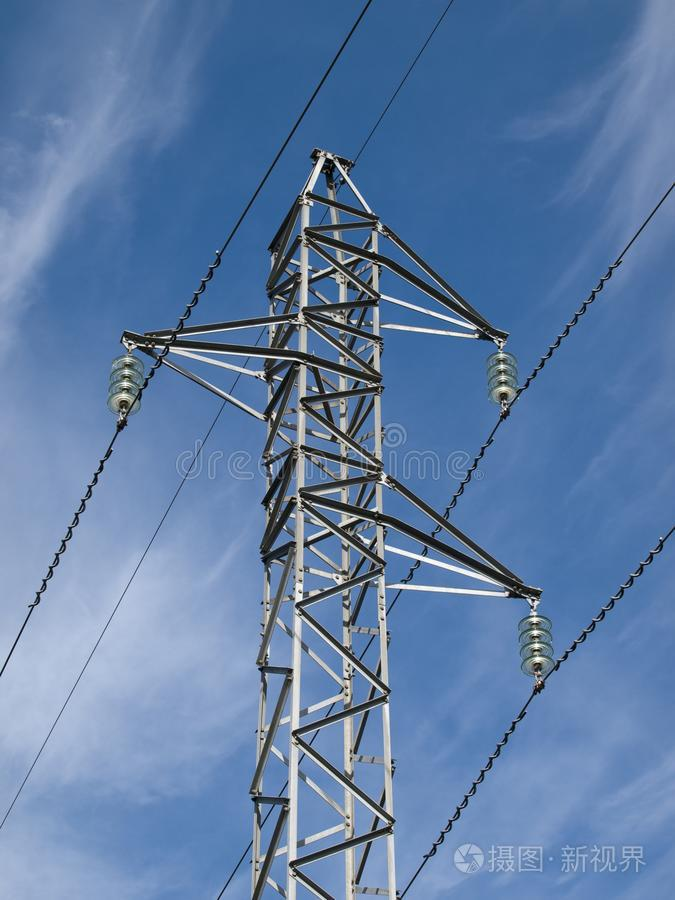insulator: (515, 615, 555, 678), (107, 353, 144, 414), (486, 351, 524, 407)
